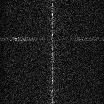wifi: (1, 36, 104, 41)
